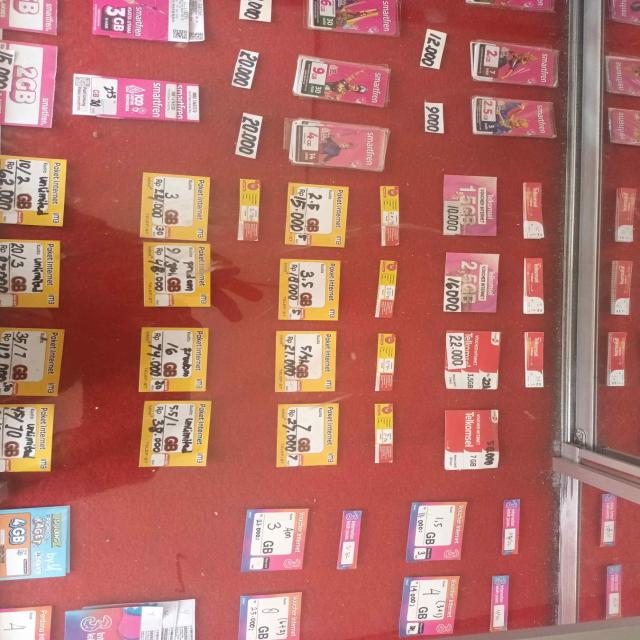Indosat: (236, 178, 268, 245), (0, 603, 56, 639)
Indosat-3: (61, 596, 200, 640), (406, 499, 468, 566), (245, 506, 306, 572), (398, 575, 461, 637), (338, 507, 365, 569), (498, 497, 526, 553), (488, 572, 512, 630)
Telkomsel: (440, 249, 502, 317), (442, 408, 504, 472), (444, 329, 504, 390), (519, 254, 551, 316), (519, 178, 549, 240), (520, 330, 549, 391)
byu: (0, 504, 77, 579)
im3: (139, 241, 216, 312), (136, 170, 212, 240), (137, 324, 210, 396), (1, 154, 68, 230), (141, 400, 213, 468), (283, 181, 350, 249), (1, 240, 62, 312), (2, 327, 62, 399), (278, 257, 344, 322), (276, 402, 339, 468), (274, 328, 336, 392), (2, 406, 56, 474), (370, 402, 400, 466), (378, 184, 406, 248), (376, 331, 400, 395), (376, 257, 400, 318)
smartfren: (72, 69, 208, 125), (290, 51, 392, 109), (283, 118, 395, 170), (0, 39, 58, 128), (466, 36, 563, 89), (93, 0, 207, 45), (468, 93, 553, 136), (310, 0, 400, 35), (4, 1, 56, 38)
